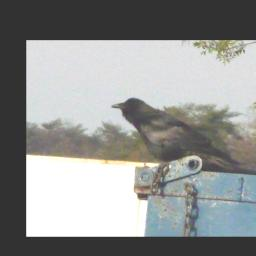Crow: (110, 96, 239, 170)
